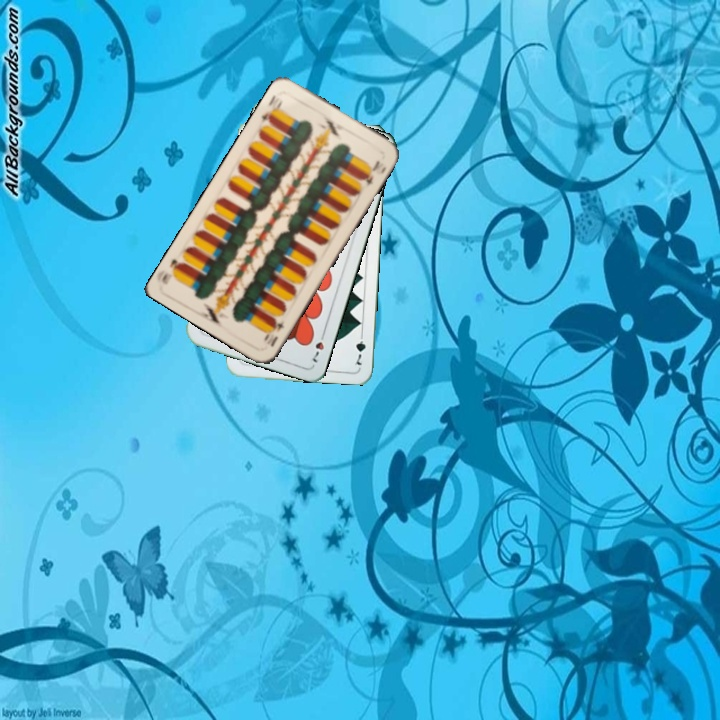E10: (257, 91, 285, 127), (260, 315, 287, 349)
G7: (352, 328, 368, 368)
H7: (308, 327, 328, 365)
